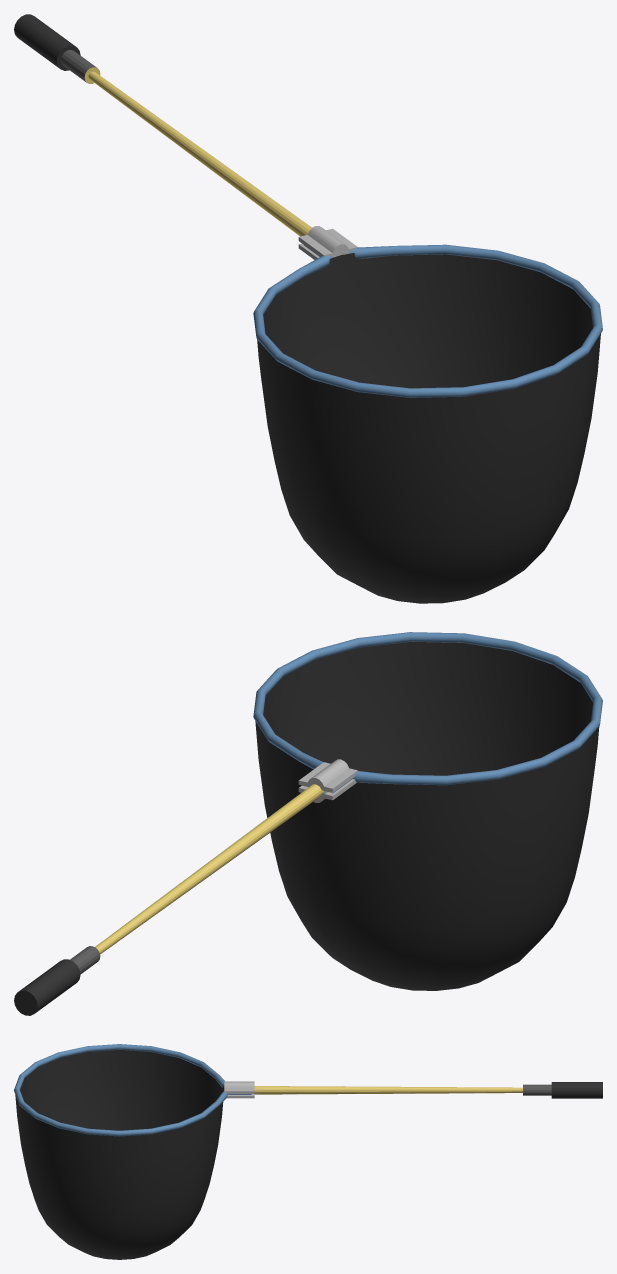
File: Fishnet.fbx
3 views of the same model, one above another, from view 1: azimuth 30°, elevation 25°; view 2: azimuth 150°, elevation 25°; view 3: azimuth 270°, elevation 25° (orthographic). The views are drawn at different scales.
Parts seen in each view (by area): view 1: FishNet; view 2: FishNet; view 3: FishNet.
Boxes of the visible parts, x1=… form: FishNet: x1=14, y1=14, x2=602, y2=603; FishNet: x1=14, y1=632, x2=602, y2=1015; FishNet: x1=14, y1=1044, x2=602, y2=1259.
Bounding box in the file's own units: 3.56 × 3.15 × 9.93.
